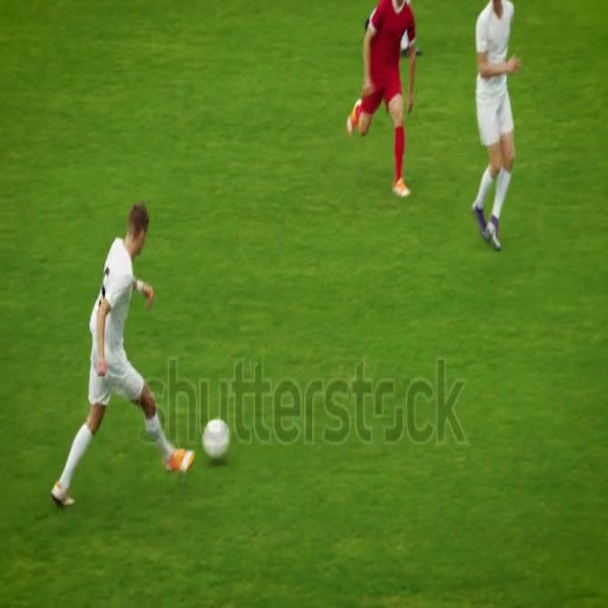ball: (200, 415, 231, 463)
